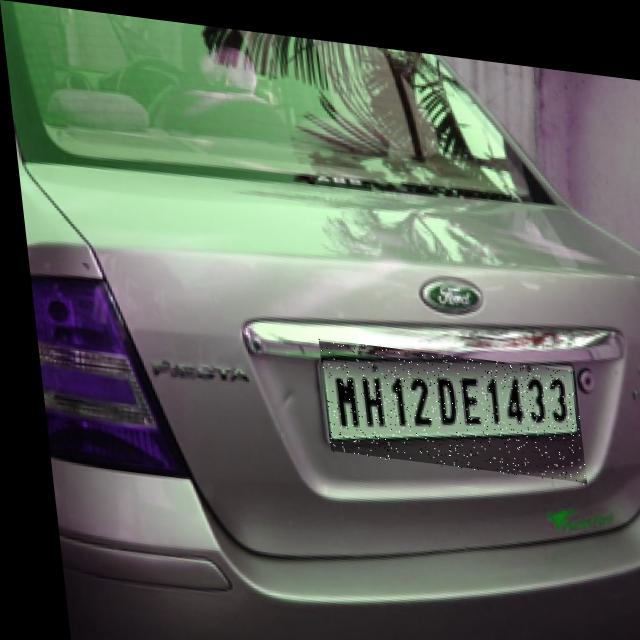license_plate: (312, 332, 578, 471)
